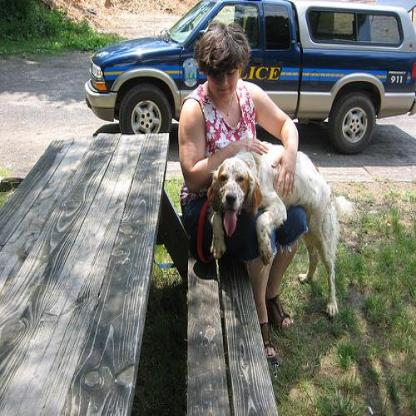English_setter: (206, 135, 341, 315)
